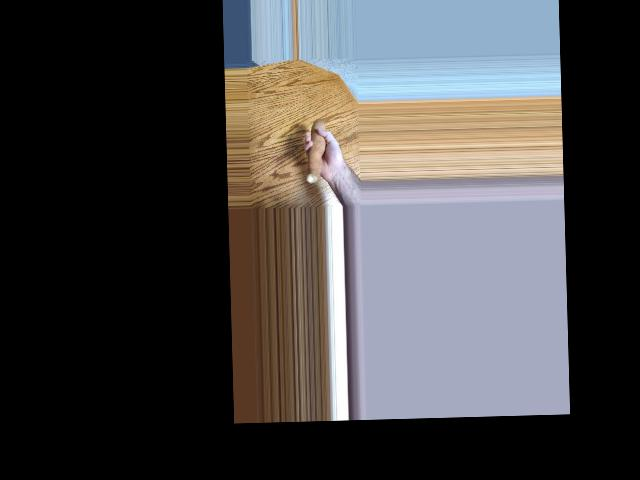sweet_potato: (306, 114, 330, 185)
